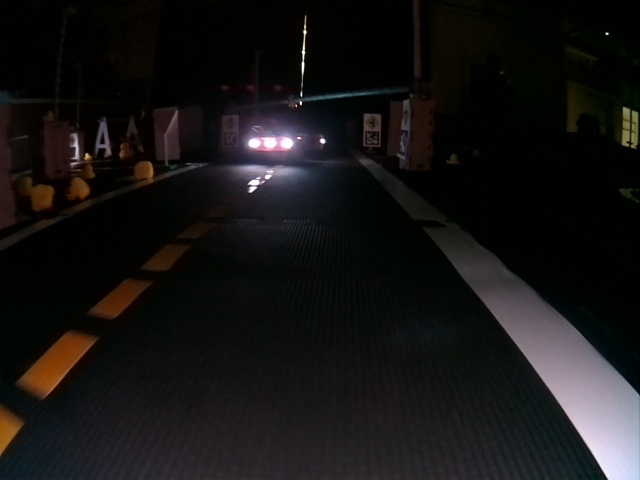Duckie: (31, 186, 55, 211), (69, 178, 90, 200), (136, 161, 153, 178), (119, 143, 133, 159), (81, 165, 95, 178), (447, 154, 459, 164)
Duckiebot: (247, 124, 325, 159)
Intersection sign: (365, 114, 381, 130), (402, 103, 411, 127)
QR code: (399, 129, 410, 157), (222, 131, 238, 146), (365, 131, 381, 145)
